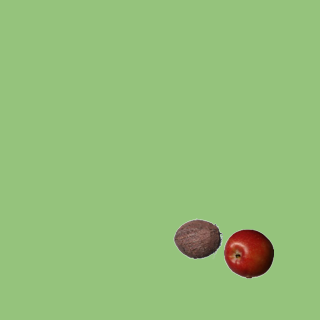Apple Braeburn: (223, 228, 273, 278)
Cocos: (172, 213, 222, 263)
